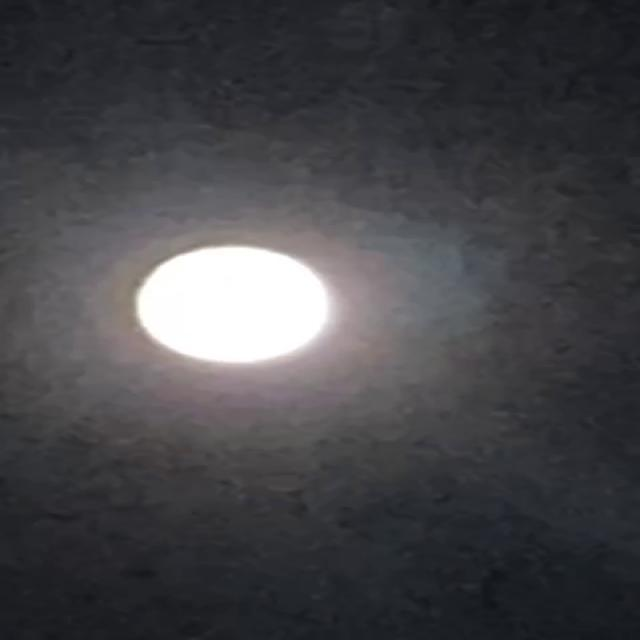moon: (133, 246, 360, 367)
